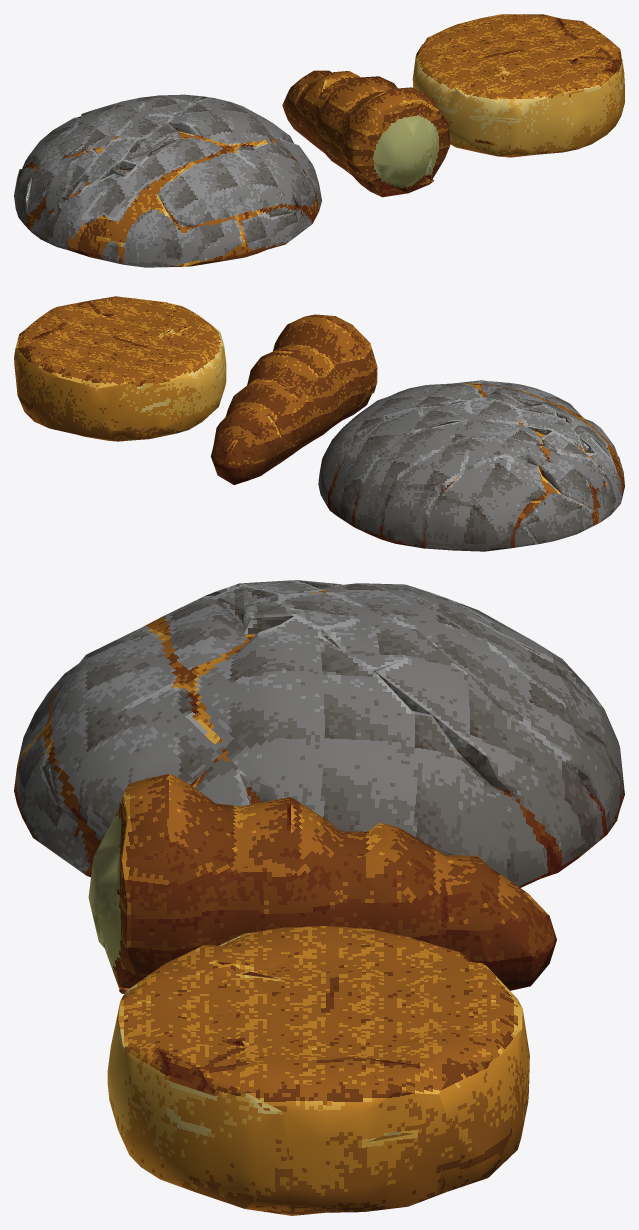
Rendered from food_melonpan2.glb.
The picture shows the model from 3 angles, top to bottom: view 1: azimuth 30°, elevation 25°; view 2: azimuth 150°, elevation 25°; view 3: azimuth 270°, elevation 25°; orthographic projection. The views are drawn at different scales.
Visible parts, largest first — view 1: mesh; view 2: mesh; view 3: mesh.
Boxes of the visible parts, left/top/right/bottom form: mesh: left=14, top=14, right=624, bottom=267; mesh: left=14, top=296, right=624, bottom=551; mesh: left=14, top=580, right=624, bottom=1215.
Size of the model in its own units: 0.2954 by 0.05 by 0.1364.
Materials: 1 (1 with a texture image).
